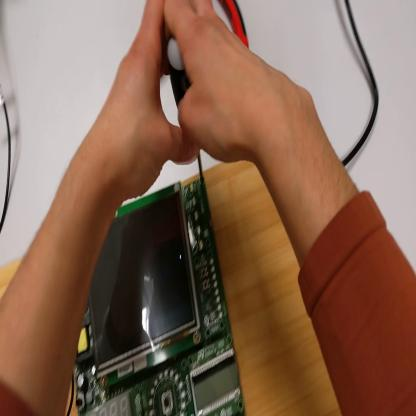hand: (165, 4, 290, 168), (100, 6, 201, 201)
low voltage board: (67, 176, 246, 414)
pliers: (224, 2, 252, 52)
screwdriver-: (167, 40, 206, 181)
working area: (2, 159, 342, 413)
